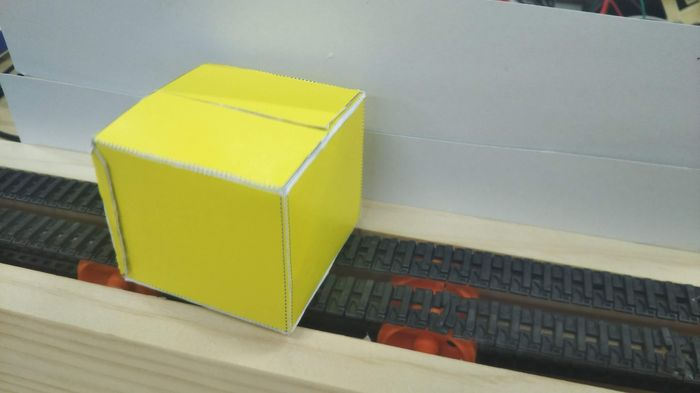box4: (84, 59, 368, 336)
